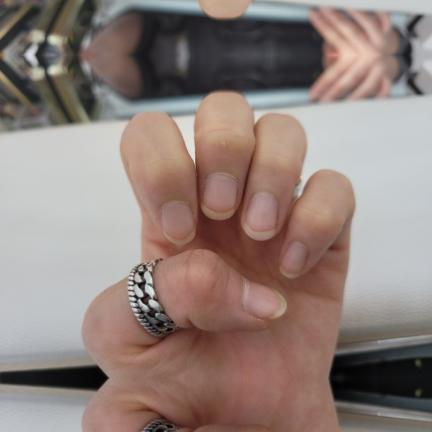Nail: (242, 280, 287, 319), (201, 172, 238, 219), (242, 192, 278, 240), (159, 200, 196, 244), (279, 240, 309, 278)
